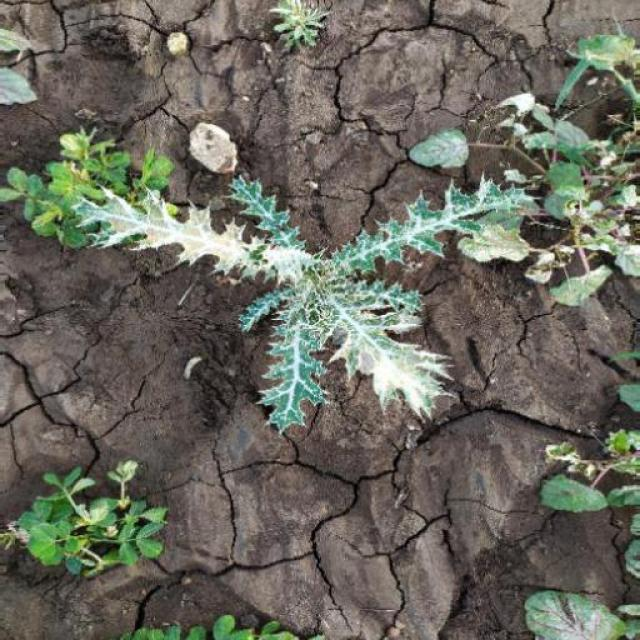weed: (11, 34, 640, 441), (9, 461, 180, 604)
